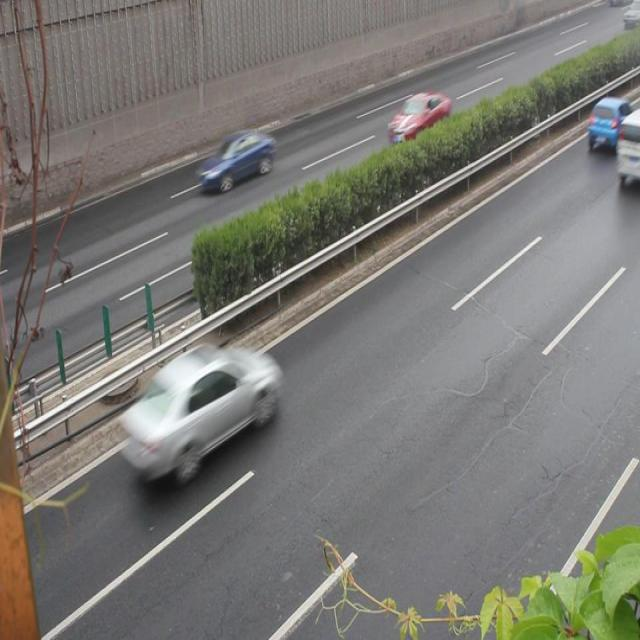car: (118, 341, 282, 478), (198, 132, 275, 188), (386, 91, 450, 145), (583, 97, 629, 153)
truck: (611, 115, 640, 187)
